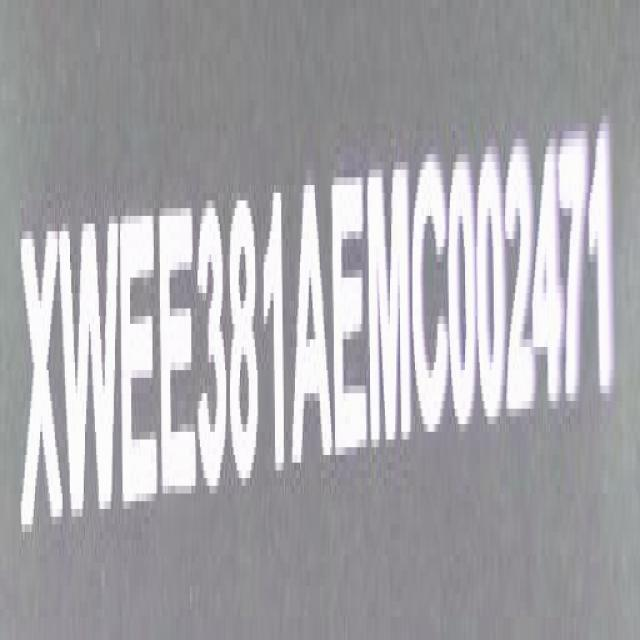0: (478, 117, 508, 443), (447, 152, 480, 432)
1: (588, 91, 618, 434), (261, 191, 286, 500)
2: (504, 126, 536, 434)
3: (196, 197, 229, 506)
4: (534, 123, 563, 431)
7: (558, 120, 592, 428)
8: (227, 194, 260, 494)
A: (292, 174, 334, 477)
C: (411, 146, 450, 451)
E: (158, 206, 198, 514), (120, 220, 158, 525), (332, 177, 368, 463)
M: (367, 163, 413, 448)
W: (59, 217, 120, 537)
X: (20, 222, 64, 542)
